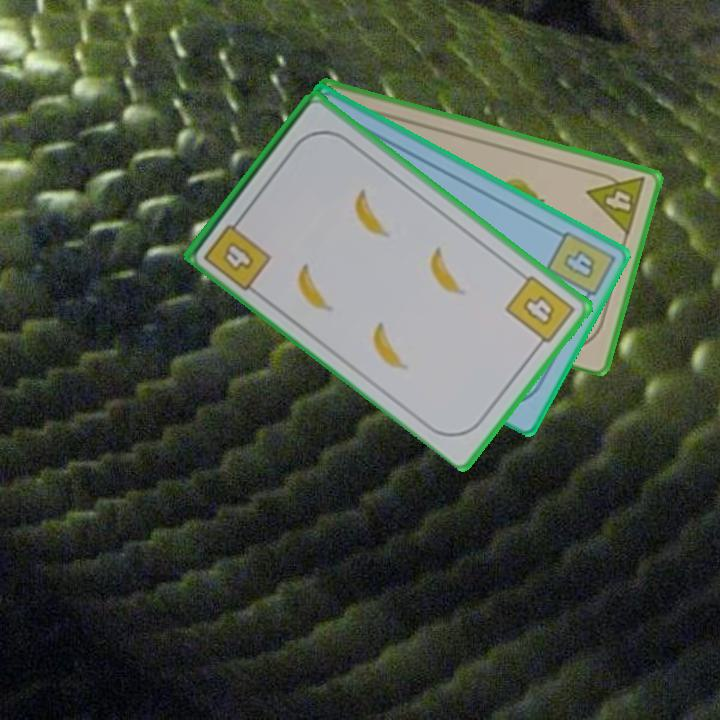4b: (501, 271, 578, 353), (200, 211, 275, 293), (542, 227, 617, 307)
4p: (583, 166, 648, 238)
